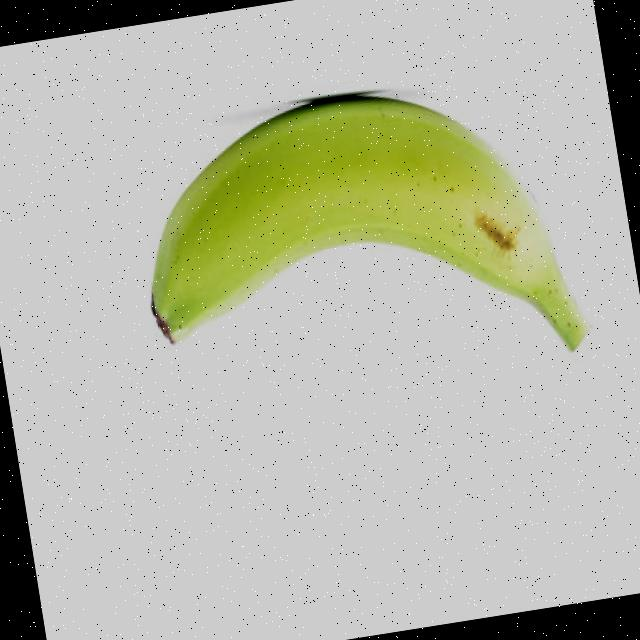banana: (121, 64, 594, 418)
